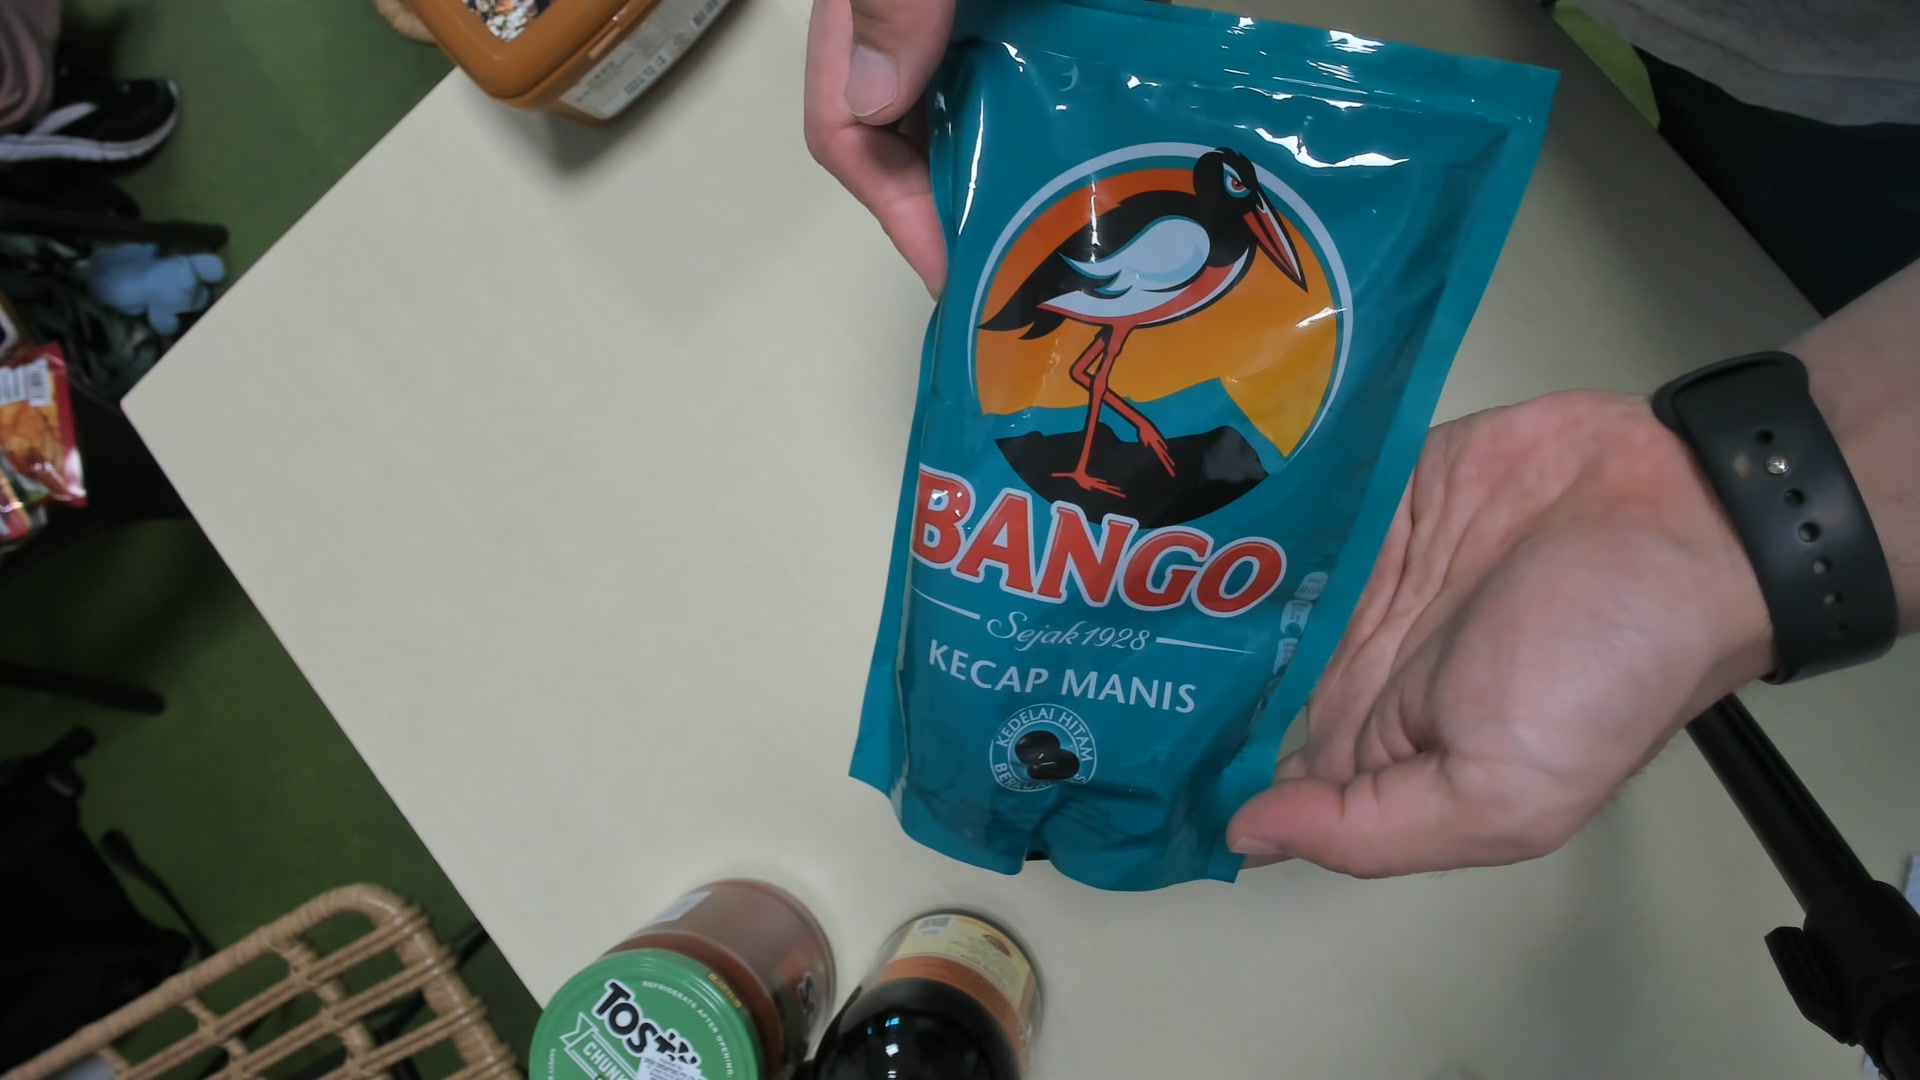OtherSauceDressing_500-599g_NonHalal_NonHealthy: (861, 7, 1549, 902)
